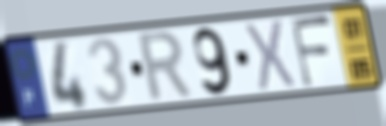3: (85, 35, 131, 109)
4: (51, 39, 90, 114)
9: (191, 25, 234, 99)
F: (288, 13, 335, 91)
R: (136, 28, 197, 106)
X: (242, 17, 298, 94)
